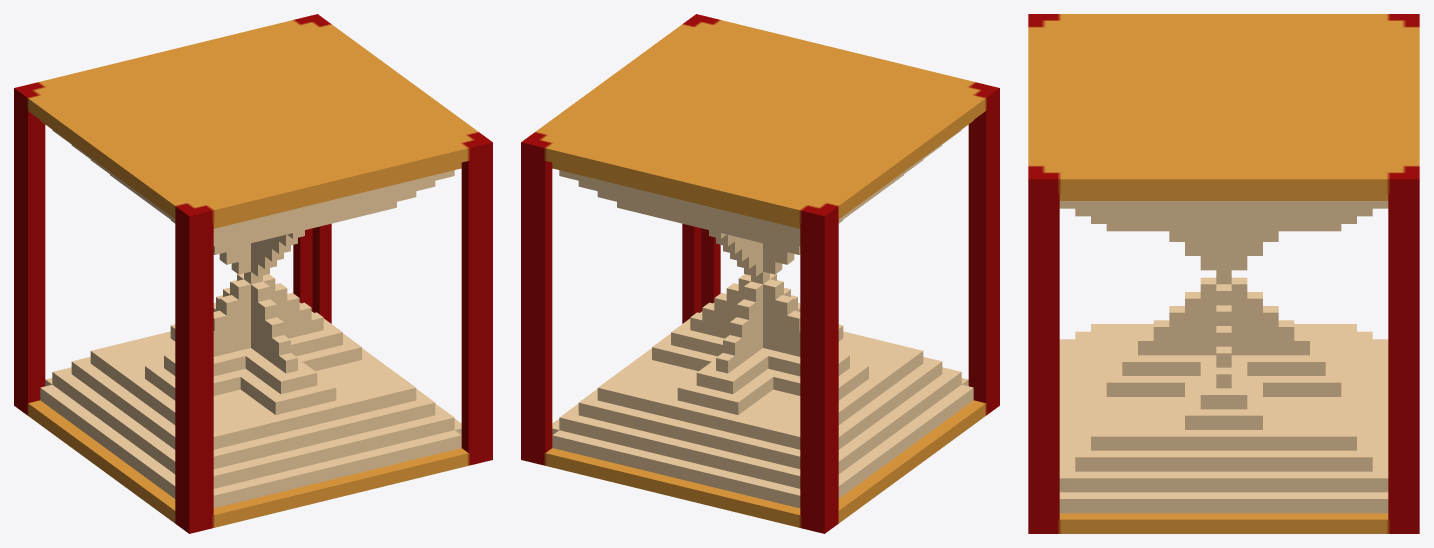
Rendered from nineteenthModel.fbx.
3 views of the same model, side by side, from view 1: azimuth 30°, elevation 25°; view 2: azimuth 150°, elevation 25°; view 3: azimuth 270°, elevation 25° (orthographic). The views are drawn at different scales.
Visible parts, largest first — view 1: Pyramid; view 2: Pyramid; view 3: Pyramid.
Boxes of the visible parts, x1,y1,x2,y2 form: Pyramid: [14, 14, 492, 533]; Pyramid: [521, 14, 999, 533]; Pyramid: [1028, 14, 1419, 533].
Bounding box in the file's own units: 25 × 25 × 25.
1 material, 1 textured.
